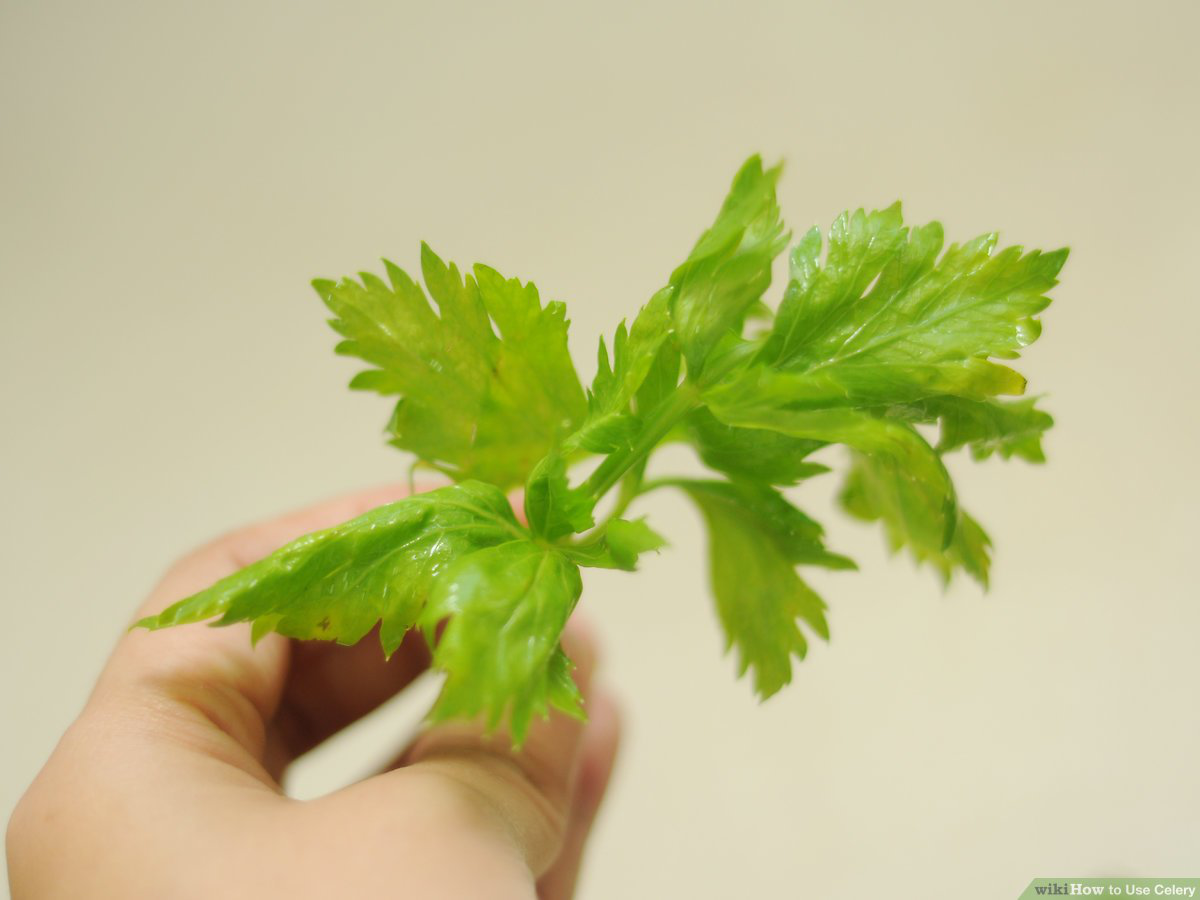Seledri: (288, 238, 1122, 743)
